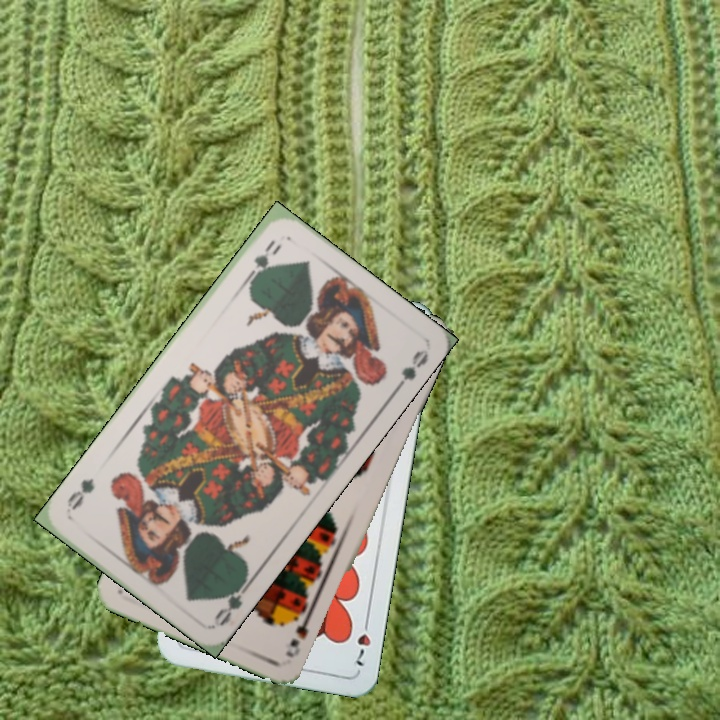GO: (209, 575, 255, 629), (241, 235, 285, 287)
H7: (351, 613, 373, 669)
S9: (286, 603, 315, 650)
